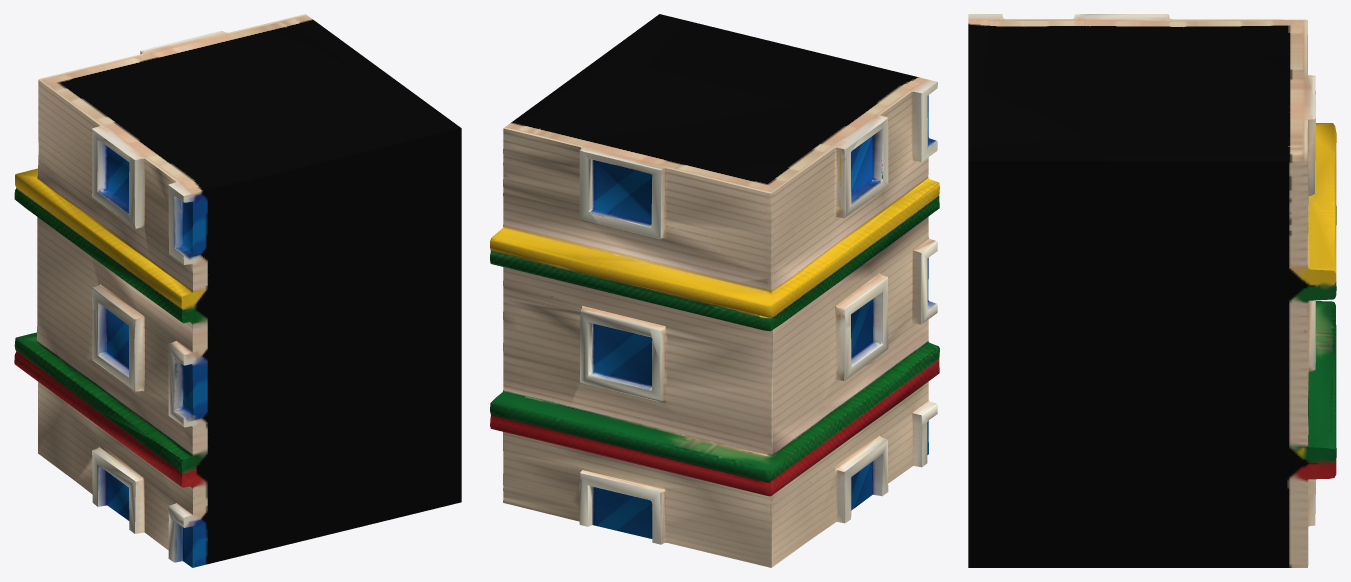
File: 7-upper-walls-back-left.fbx
The picture shows the model from 3 angles, left to right: view 1: azimuth 30°, elevation 25°; view 2: azimuth 150°, elevation 25°; view 3: azimuth 270°, elevation 25°; orthographic projection. The views are drawn at different scales.
Parts seen in each view (by area): view 1: upper-walls-back-left; view 2: upper-walls-back-left; view 3: upper-walls-back-left.
Boxes of the visible parts, <box> form: upper-walls-back-left: <box>14,14,461,567</box>; upper-walls-back-left: <box>490,14,939,567</box>; upper-walls-back-left: <box>968,14,1336,567</box>.
Size of the model in its own units: 4286 by 5466 by 4487.
Materials: 1 (1 with a texture image).
